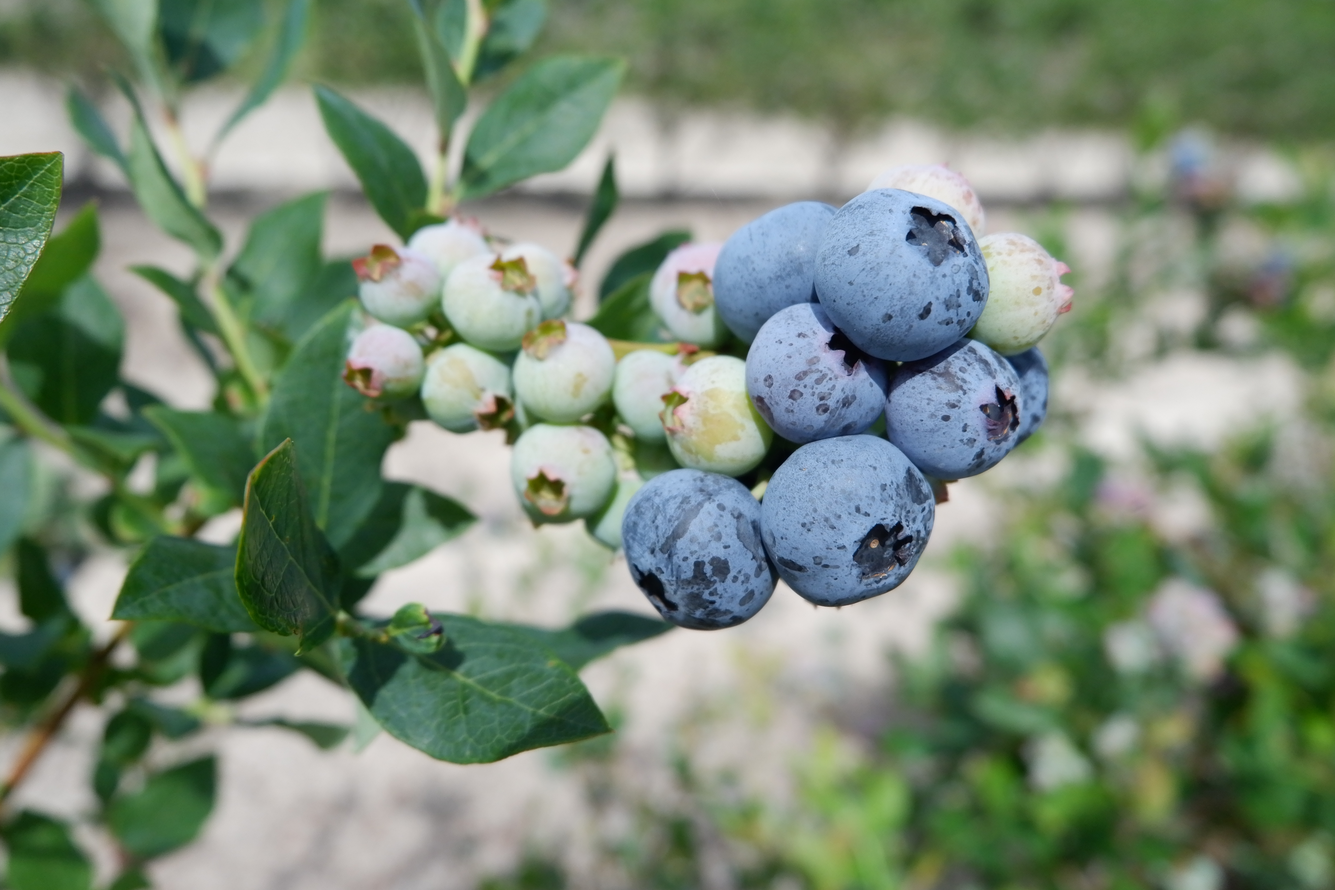Immature: (665, 365, 770, 474), (976, 235, 1072, 352), (512, 424, 615, 521), (515, 322, 613, 422), (445, 259, 546, 349), (651, 243, 724, 348), (423, 348, 512, 430), (357, 246, 439, 324), (499, 245, 576, 318), (344, 327, 423, 397), (614, 352, 680, 435), (583, 476, 645, 555), (409, 222, 485, 276)
Mature: (819, 190, 986, 357), (765, 440, 933, 601), (626, 470, 773, 629), (752, 305, 885, 439), (888, 342, 1020, 476), (715, 205, 834, 338), (872, 166, 982, 230), (1003, 344, 1050, 443)
